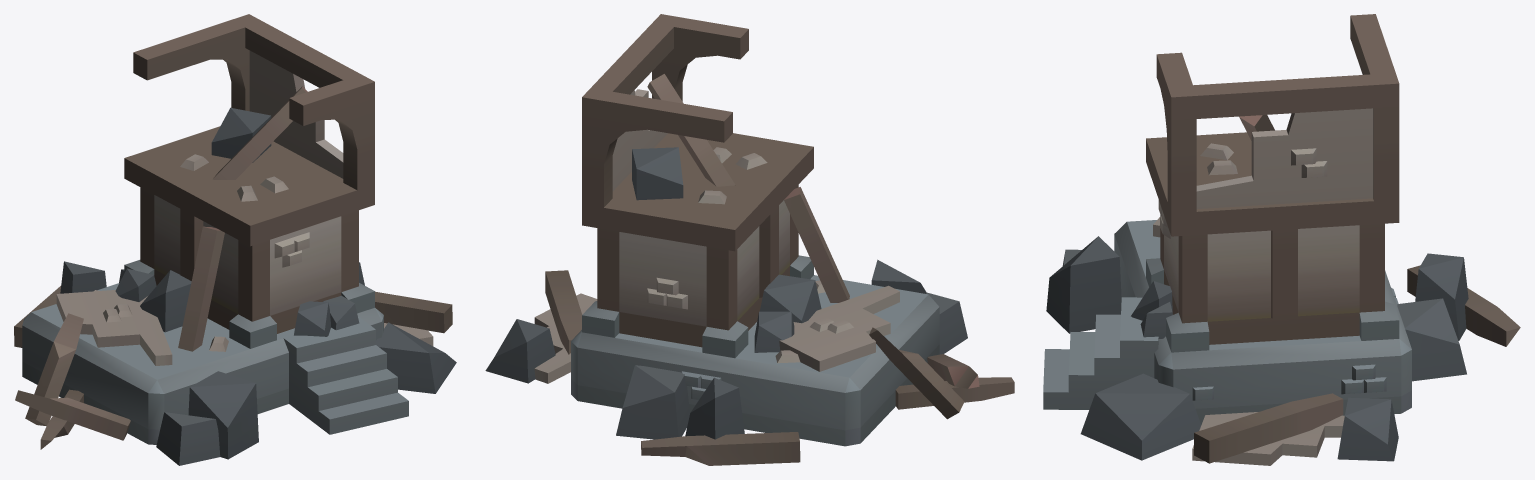
The model's file is building_destroyed.glb.
3 renders of one model, left to right at view 1: azimuth 30°, elevation 25°; view 2: azimuth 150°, elevation 25°; view 3: azimuth 270°, elevation 25°, orthographic. The views are drawn at different scales.
Parts seen in each view (by area): view 1: building_destroyed; view 2: building_destroyed; view 3: building_destroyed.
Part boxes in pixels (<box>): building_destroyed: <box>14,14,456,465</box>; building_destroyed: <box>485,14,1014,465</box>; building_destroyed: <box>1043,14,1520,465</box>.
Size of the model in its own units: 1.54 by 0.9939 by 1.31.
Materials: 1 (1 with a texture image).
